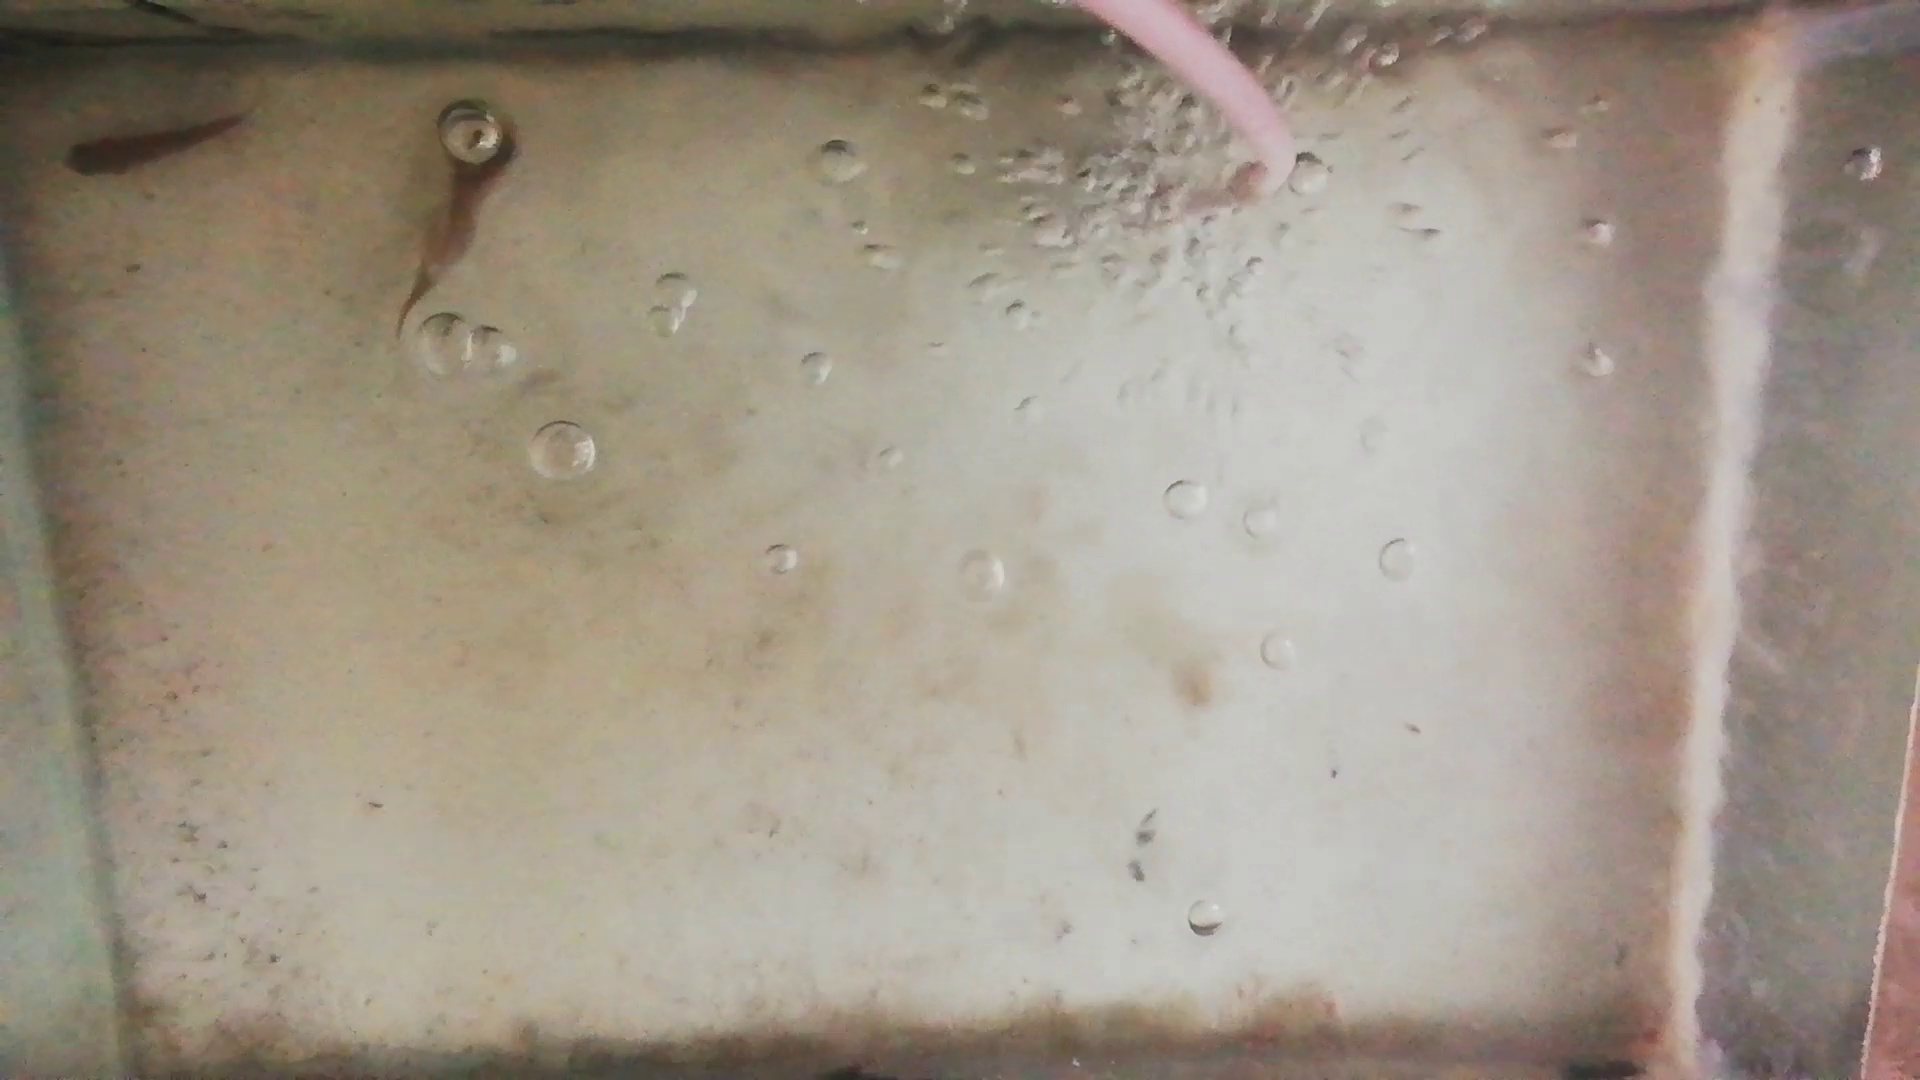fish: (396, 117, 520, 334), (61, 116, 244, 175)
